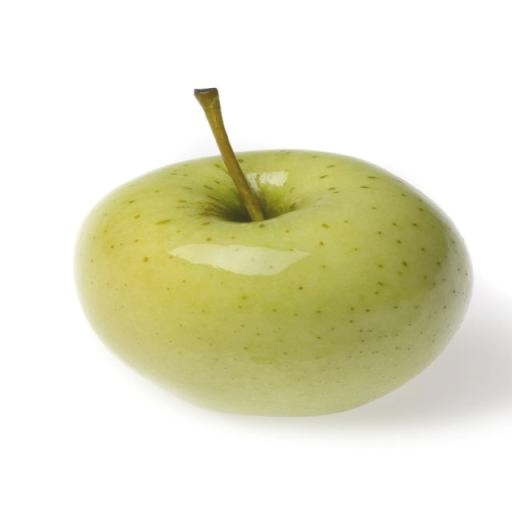fruit: (76, 151, 470, 415)
